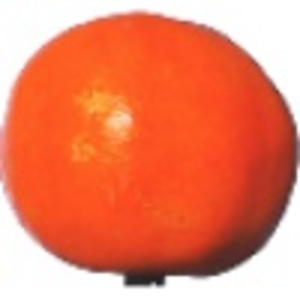tangerina: (1, 1, 300, 288)
